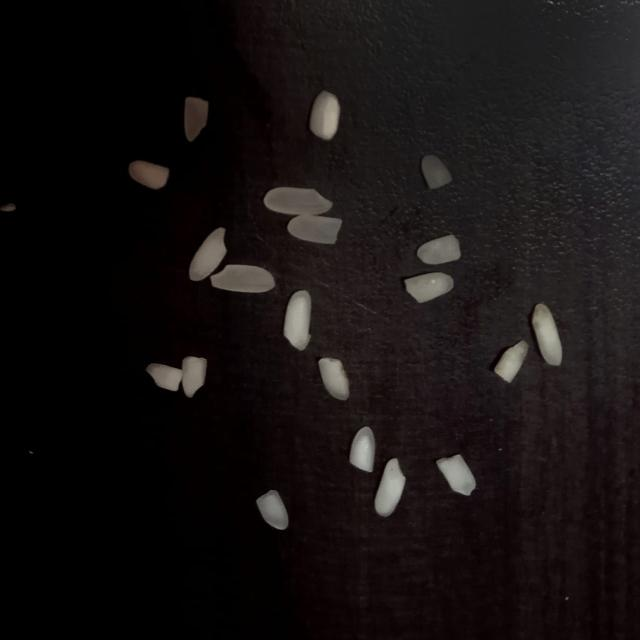Broken: (437, 454, 476, 496), (288, 214, 342, 244), (404, 272, 454, 304), (310, 90, 340, 140), (494, 340, 528, 383), (256, 489, 289, 530), (318, 358, 349, 400), (417, 235, 461, 264), (129, 160, 170, 190), (350, 426, 375, 472), (184, 97, 209, 141), (146, 364, 184, 392), (182, 357, 207, 398), (422, 155, 452, 189)
Full: (189, 228, 227, 281), (210, 264, 276, 293), (374, 458, 406, 517), (264, 188, 333, 215), (532, 304, 562, 366), (284, 290, 311, 351)
